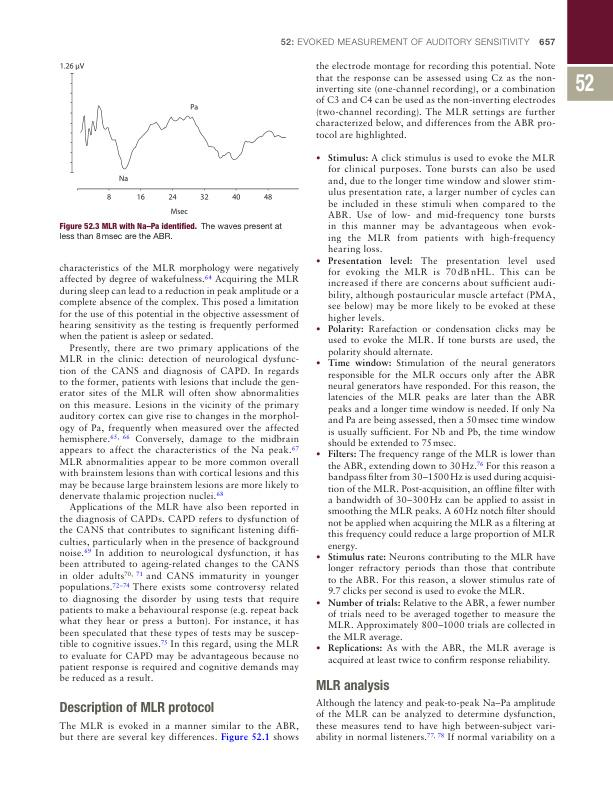caption: (59, 221, 283, 240)
header: (280, 36, 531, 47)
image: (57, 59, 305, 219)
list: (313, 151, 559, 667)
sub-section-heading: (59, 700, 215, 716), (315, 678, 390, 694)
text: (58, 262, 300, 683), (314, 60, 556, 142), (315, 698, 556, 743), (58, 720, 301, 743)
